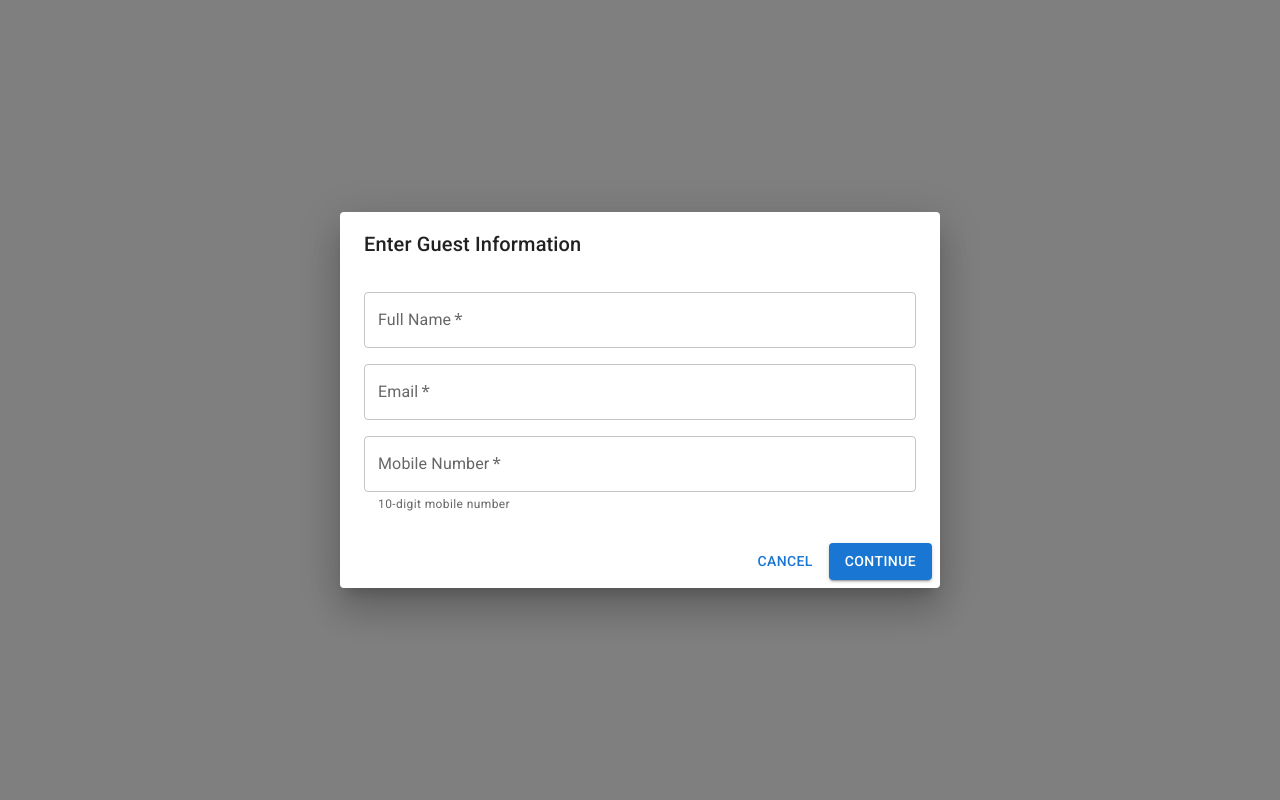
GuestInfoDialog › validates email format
The image size is (1280, 800).
Type "John Doe" into the field labelled "Full Name *" at x=640, y=320, box [364, 292, 916, 348]
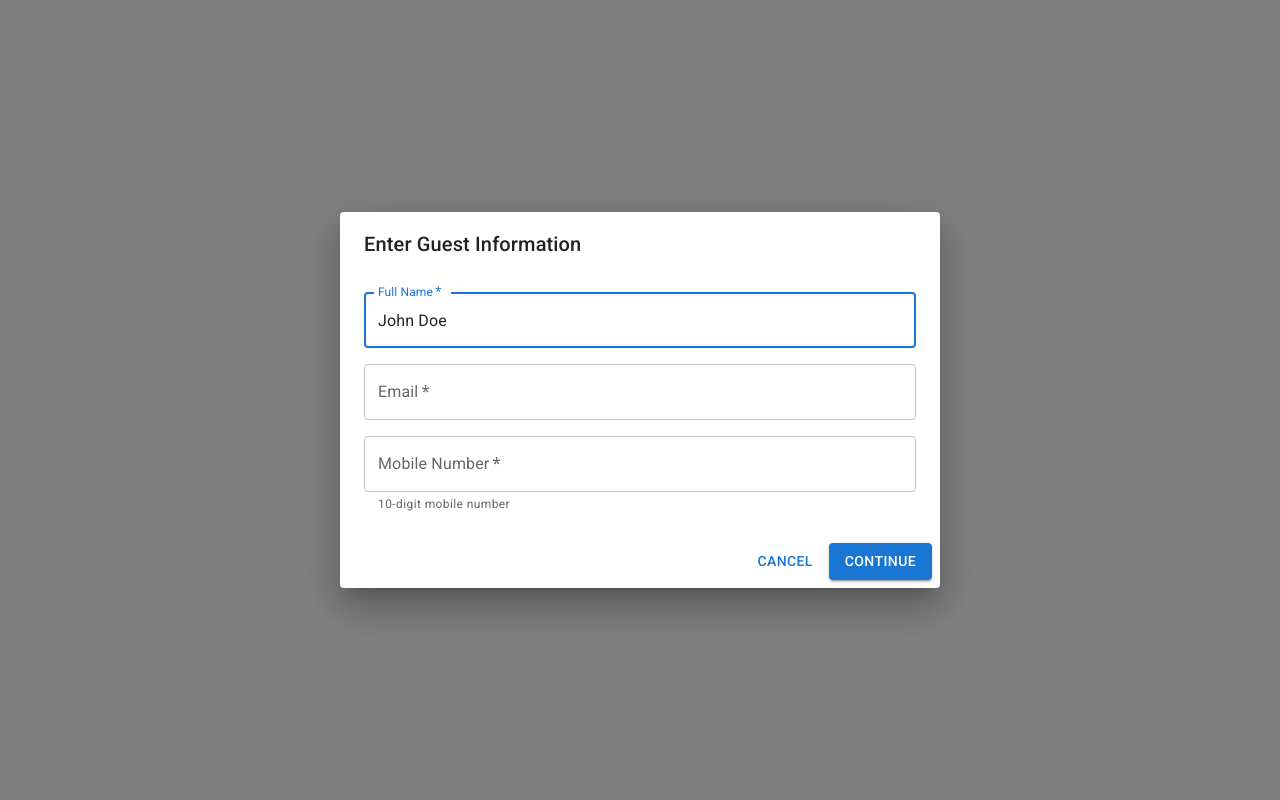
Type "invalid-email" into the field labelled "Email *" at x=640, y=392, box [364, 364, 916, 420]
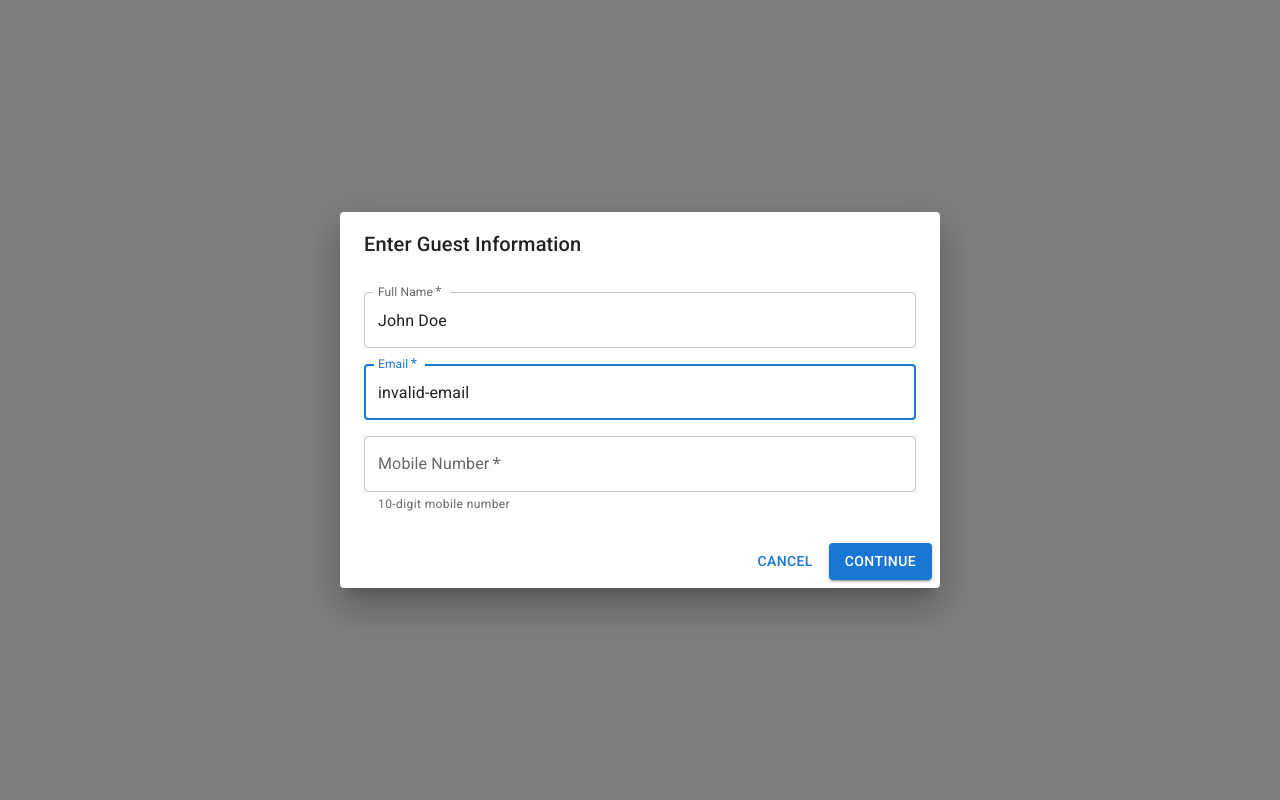
Click the button "Continue" at x=880, y=561, box [829, 543, 932, 580]
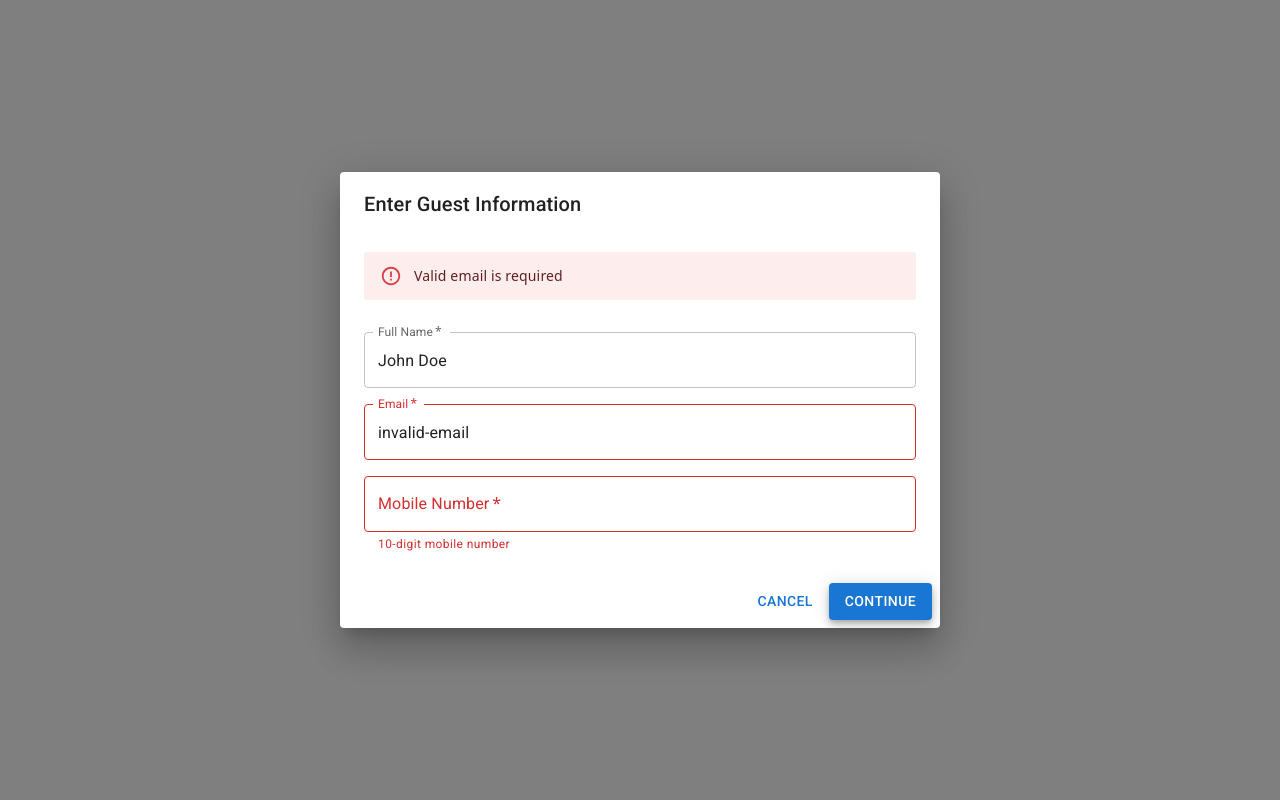
expect the text "Valid email is required" is shown: met, box [414, 266, 563, 285]
